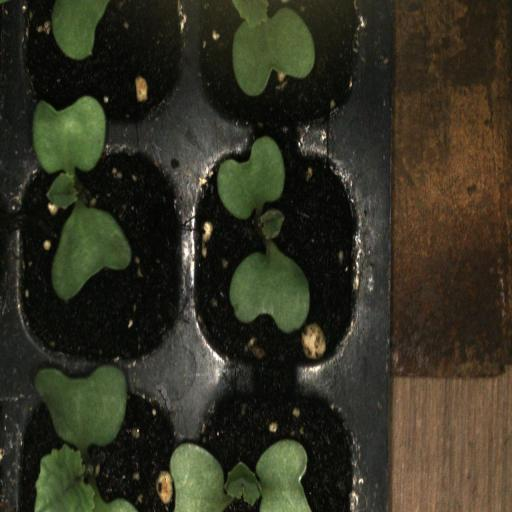Folha: (224, 0, 316, 96)
Germinacao: (187, 130, 367, 378), (12, 128, 190, 374), (188, 374, 366, 512), (14, 372, 187, 512)
